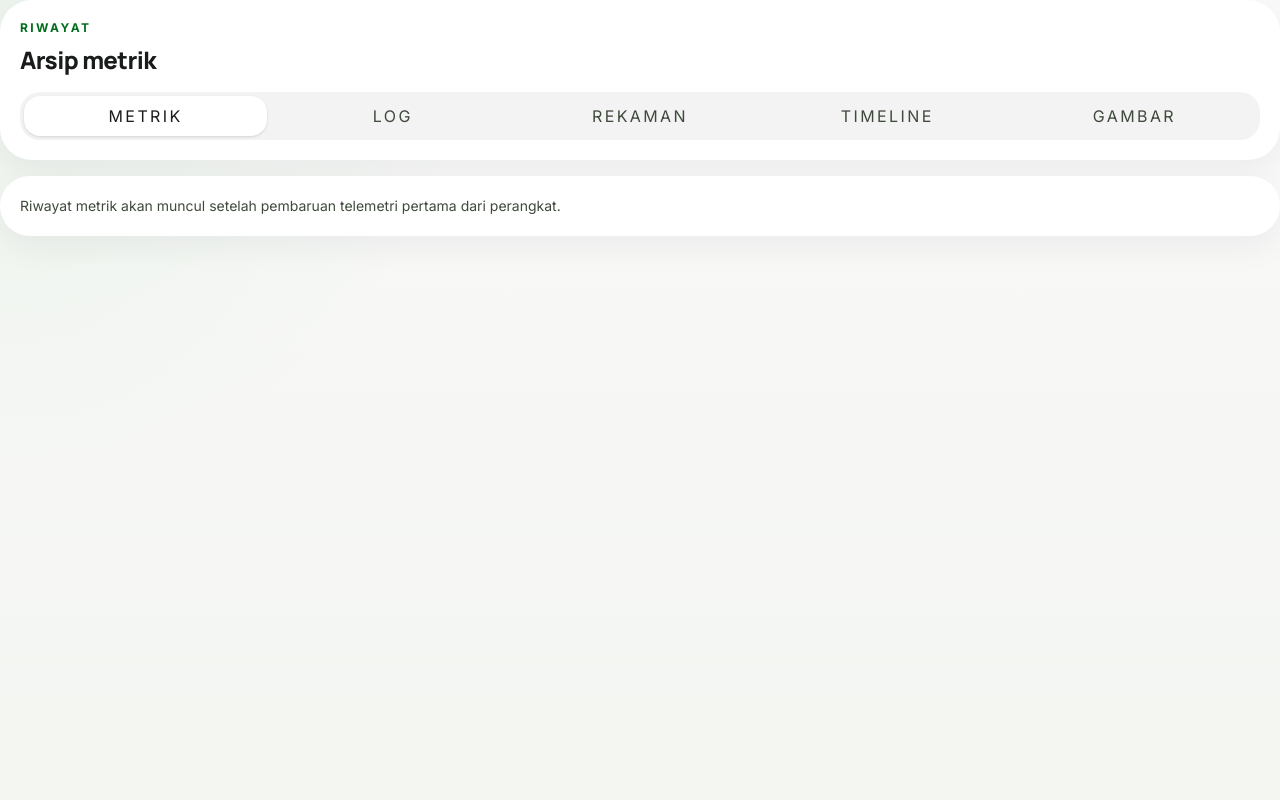
Test: HistoryPanel › timeline tab › shows only the first 4 imageHistory previews
This screenshot has width=1280, height=800.
Click the button "Timeline" at (887, 116), box [766,96,1009,136]
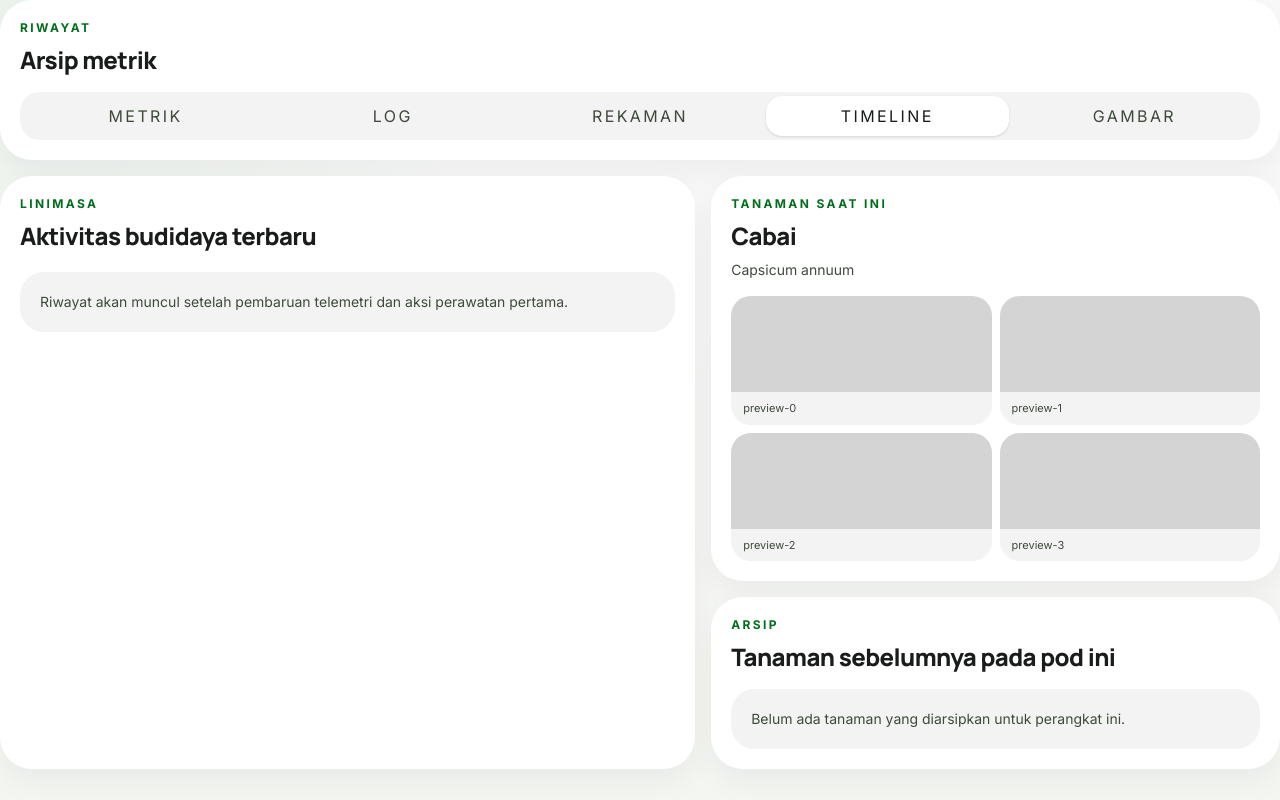
Expected: the text "preview-0" is shown, [743,401,796,415]
